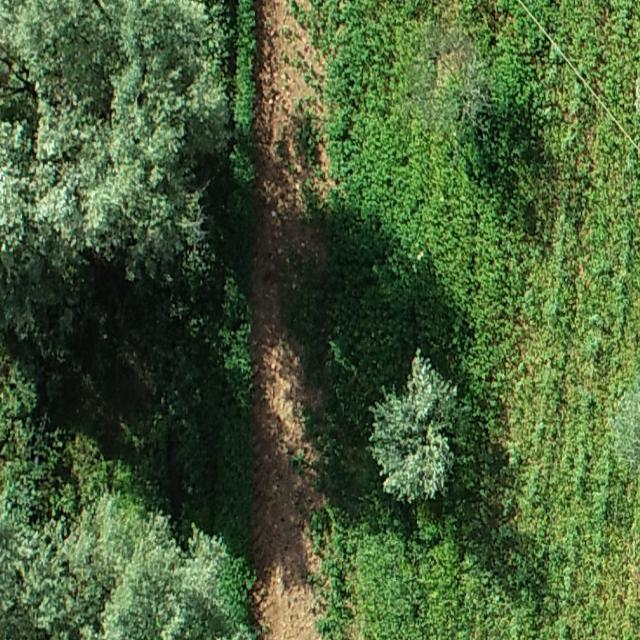trees: (0, 358, 253, 640), (0, 1, 227, 278), (371, 348, 458, 503), (408, 21, 488, 130)
